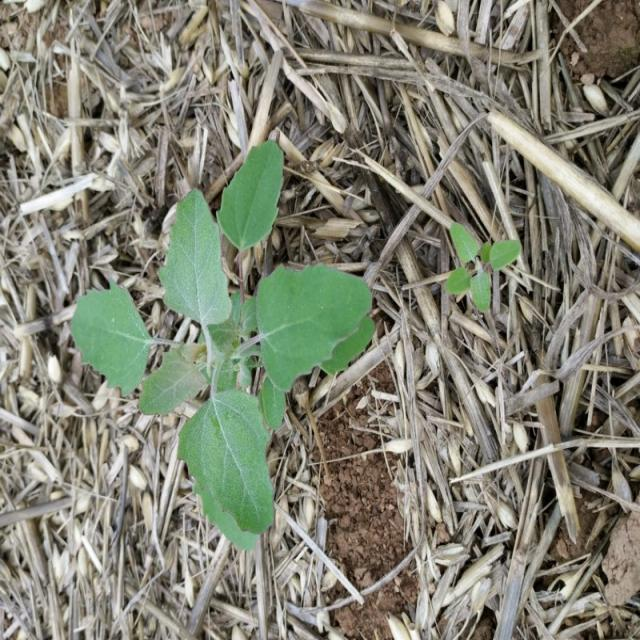ca: (73, 144, 375, 545)
